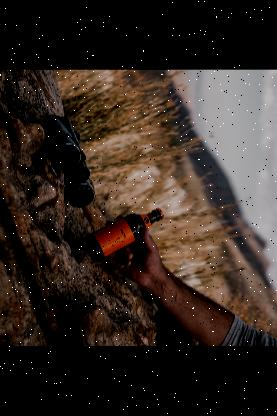Others: (82, 208, 162, 262)
